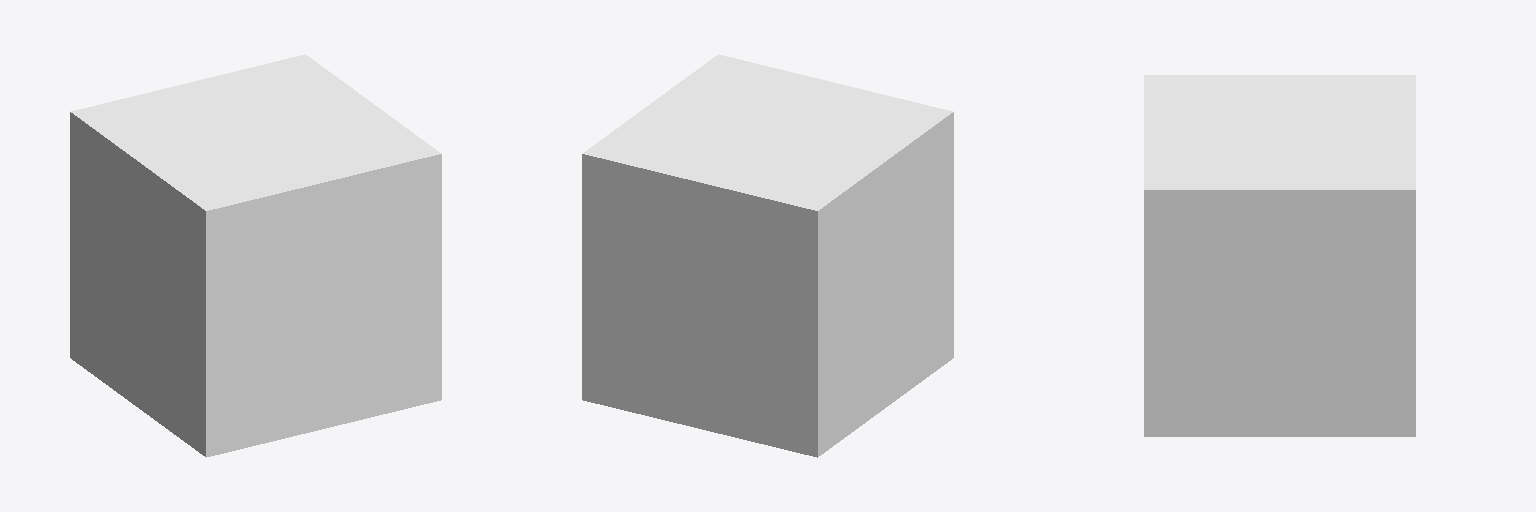
3 renders of one model, left to right at view 1: azimuth 30°, elevation 25°; view 2: azimuth 150°, elevation 25°; view 3: azimuth 270°, elevation 25°, orthographic.
Parts seen in each view (by area): view 1: test-71; view 2: test-71; view 3: test-71.
Boxes of the visible parts, box(x1,y1,x2,y2) form: test-71: box(70, 54, 441, 457); test-71: box(582, 54, 953, 457); test-71: box(1144, 75, 1415, 436).
Bounding box in the file's own units: 32 × 32 × 32.